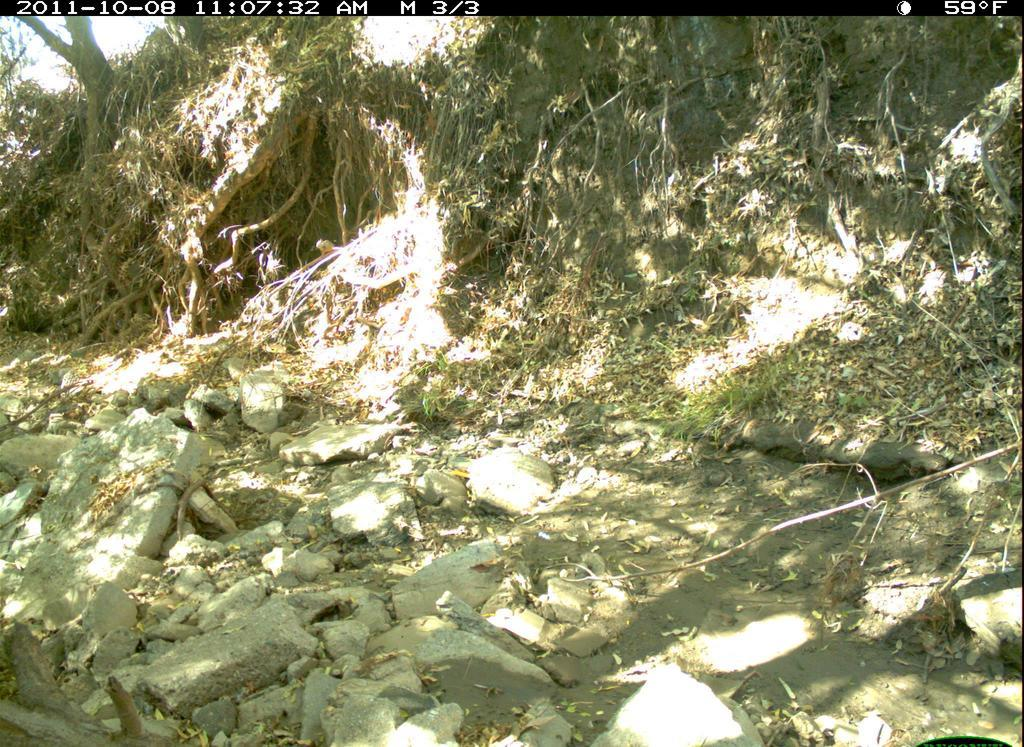squirrel: (312, 235, 340, 261)
